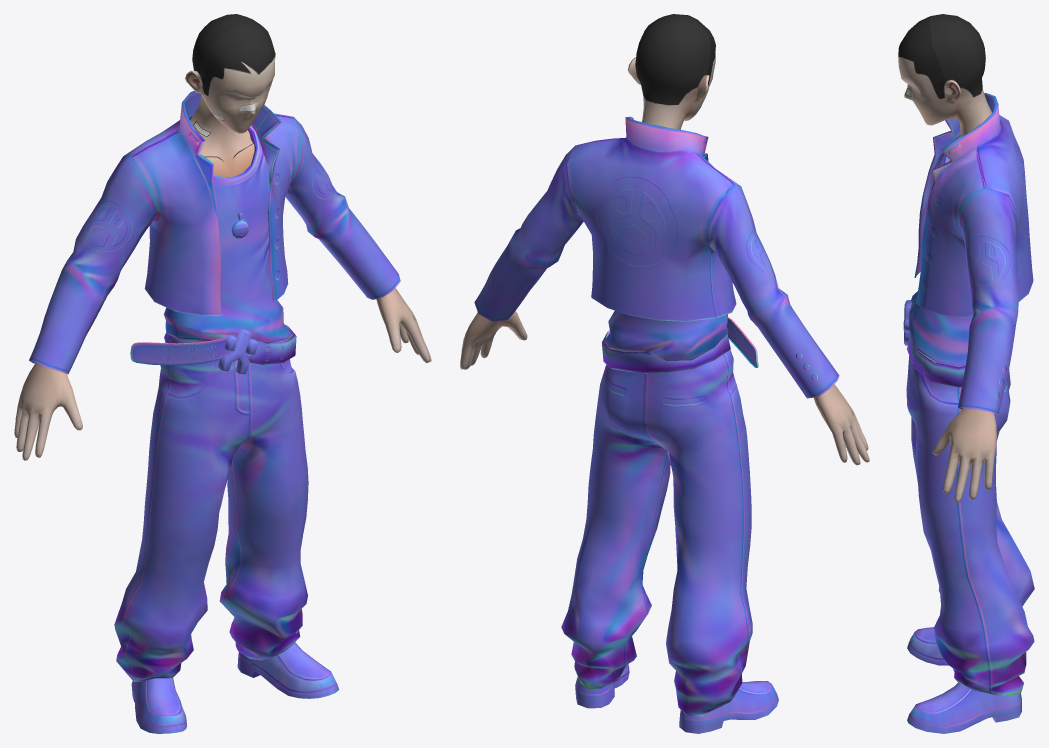
3 views of the same model, side by side, from view 1: azimuth 30°, elevation 25°; view 2: azimuth 150°, elevation 25°; view 3: azimuth 270°, elevation 25° (orthographic). The views are drawn at different scales.
Visible parts, largest first — view 1: body, head; view 2: body, head; view 3: body, head.
Boxes of the visible parts, bbox=[...] form: body: bbox=[29, 91, 400, 733]; head: bbox=[14, 14, 431, 460]; body: bbox=[474, 116, 839, 733]; head: bbox=[460, 14, 869, 465]; body: bbox=[903, 93, 1034, 733]; head: bbox=[898, 14, 996, 502].
Bounding box in the file's own units: 13.15 × 21.21 × 3.9.
2 materials, 2 textured.
